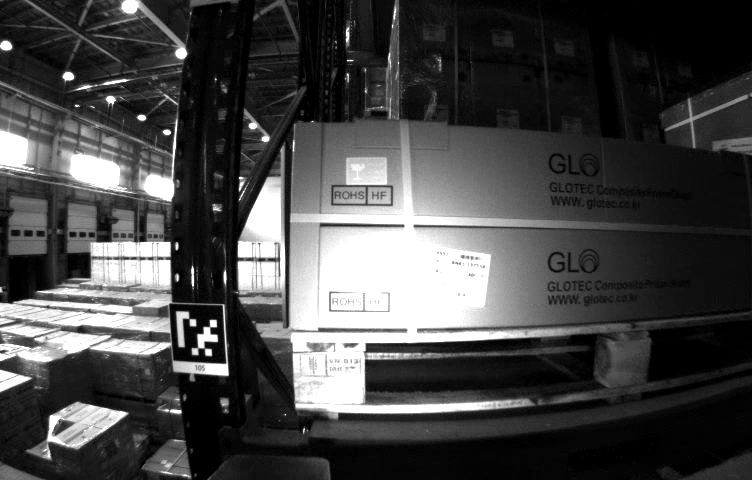True Barcode: (426, 243, 482, 307)
